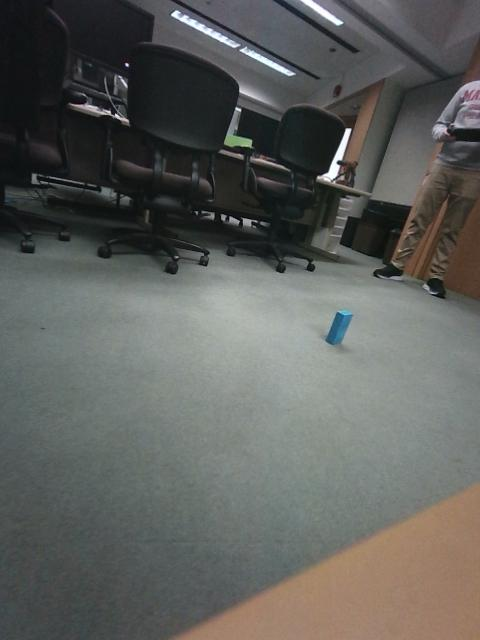block: (19, 445, 106, 572)
